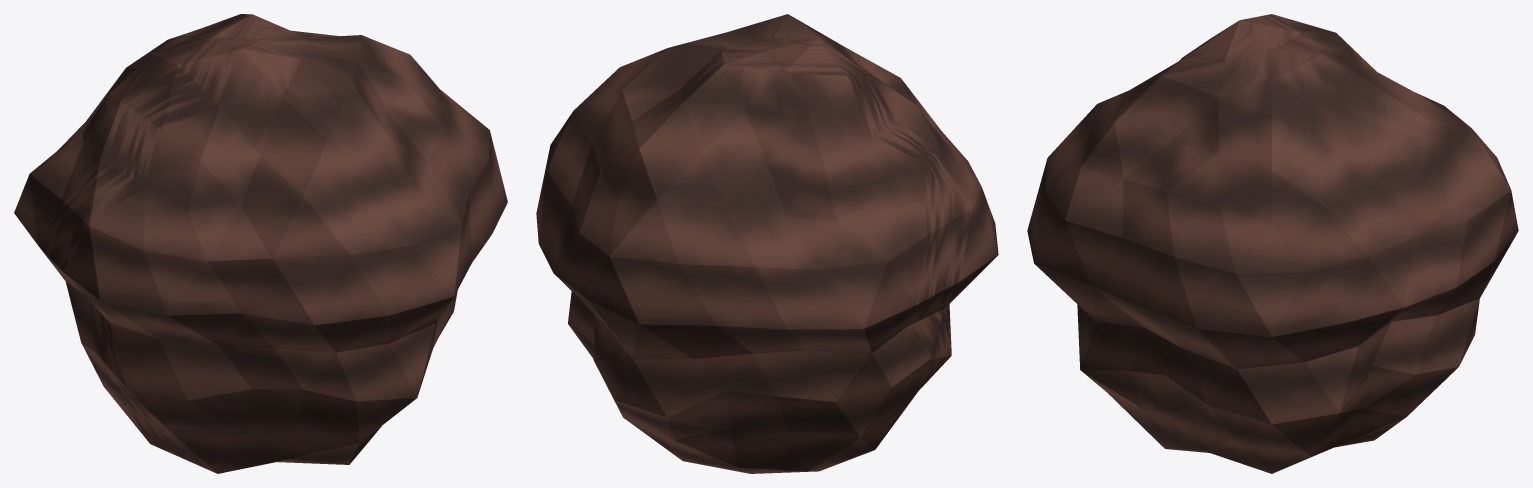
The model's file is boulder.glb.
3 renders of one model, left to right at view 1: azimuth 30°, elevation 25°; view 2: azimuth 150°, elevation 25°; view 3: azimuth 270°, elevation 25°, orthographic. The views are drawn at different scales.
Parts seen in each view (by area): view 1: Boulder; view 2: Boulder; view 3: Boulder.
Boxes of the visible parts, x1,y1,x2,y2 form: Boulder: [14, 14, 507, 473]; Boulder: [536, 14, 998, 473]; Boulder: [1027, 14, 1518, 473].
Bounding box in the file's own units: 2.2 × 2.1 × 2.26.
1 material, 1 textured.
